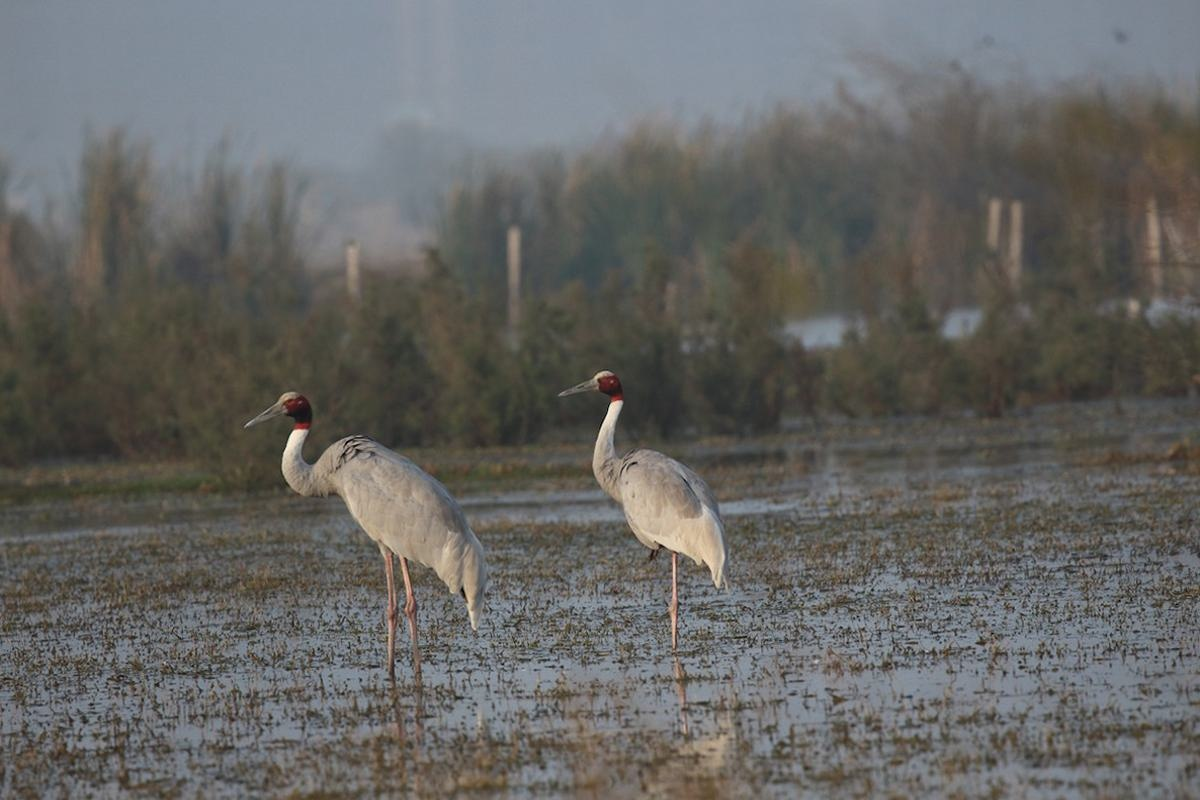crane: (240, 388, 486, 714), (548, 352, 743, 655)
